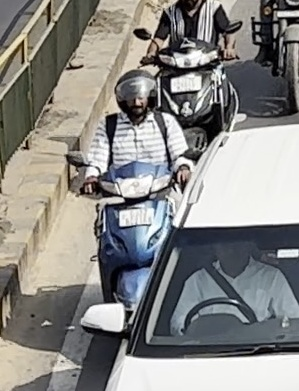BikeWithRider: (61, 64, 201, 344)
Helmet: (108, 65, 162, 122)
